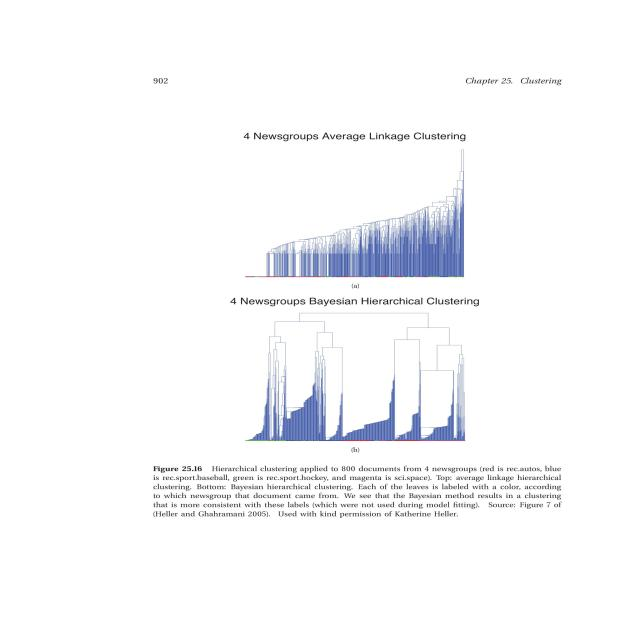diagram: (118, 109, 640, 535)
